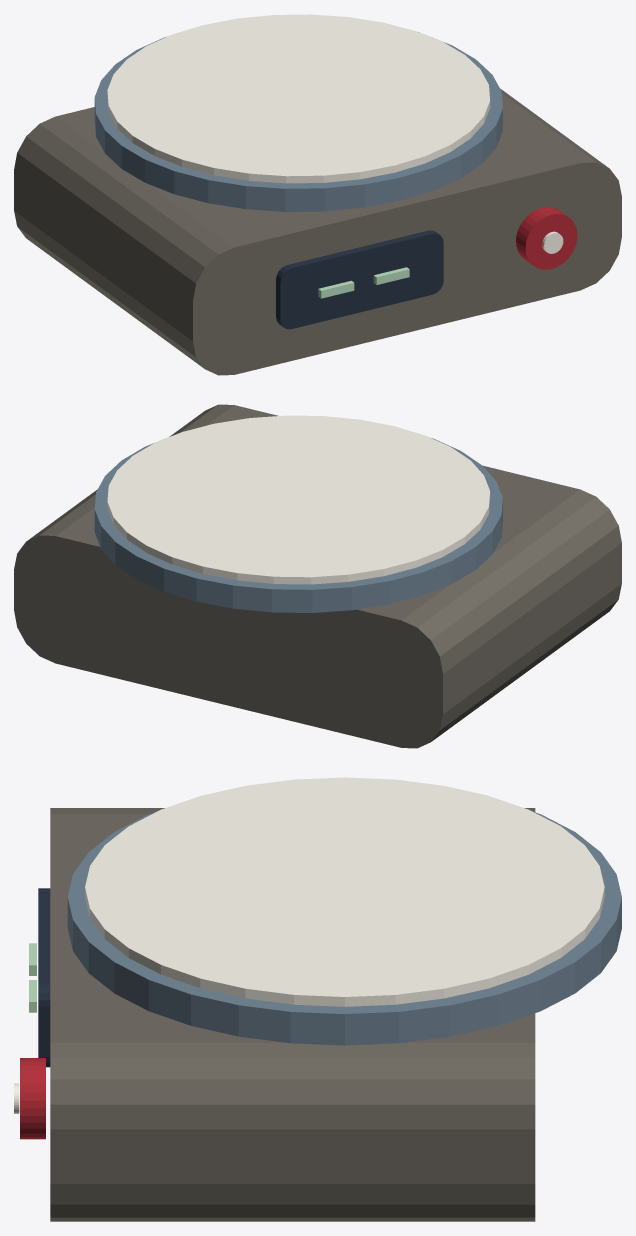
The model's file is scale.glb.
3 views of the same model, one above another, from view 1: azimuth 30°, elevation 25°; view 2: azimuth 150°, elevation 25°; view 3: azimuth 270°, elevation 25° (orthographic). The views are drawn at different scales.
Parts seen in each view (by area): view 1: base, plate face, weighing plate, screen, tare key; view 2: base, plate face, weighing plate; view 3: base, plate face, weighing plate, screen, tare key.
Boxes of the visible parts, x1,y1,x2,y2 form: base: (14, 32, 621, 375); plate face: (107, 14, 490, 183); weighing plate: (94, 35, 502, 211); screen: (276, 230, 443, 329); tare key: (516, 207, 577, 269); base: (14, 404, 621, 748); plate face: (107, 415, 490, 584); weighing plate: (94, 438, 502, 612); base: (50, 808, 535, 1221); plate face: (85, 777, 604, 1006); weighing plate: (67, 811, 621, 1045); screen: (38, 888, 50, 1067); tare key: (20, 1058, 45, 1139).
Bounding box in the file's own units: 1.55 × 0.545 × 1.4.
